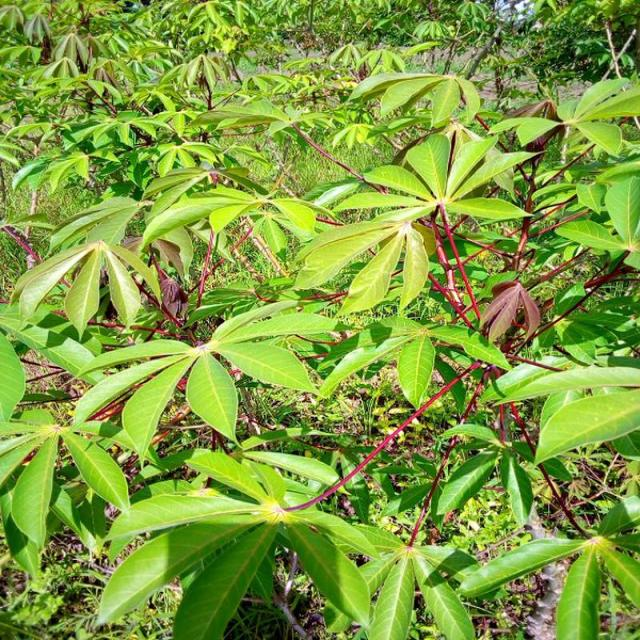cassava leaf: (185, 349, 238, 445)
